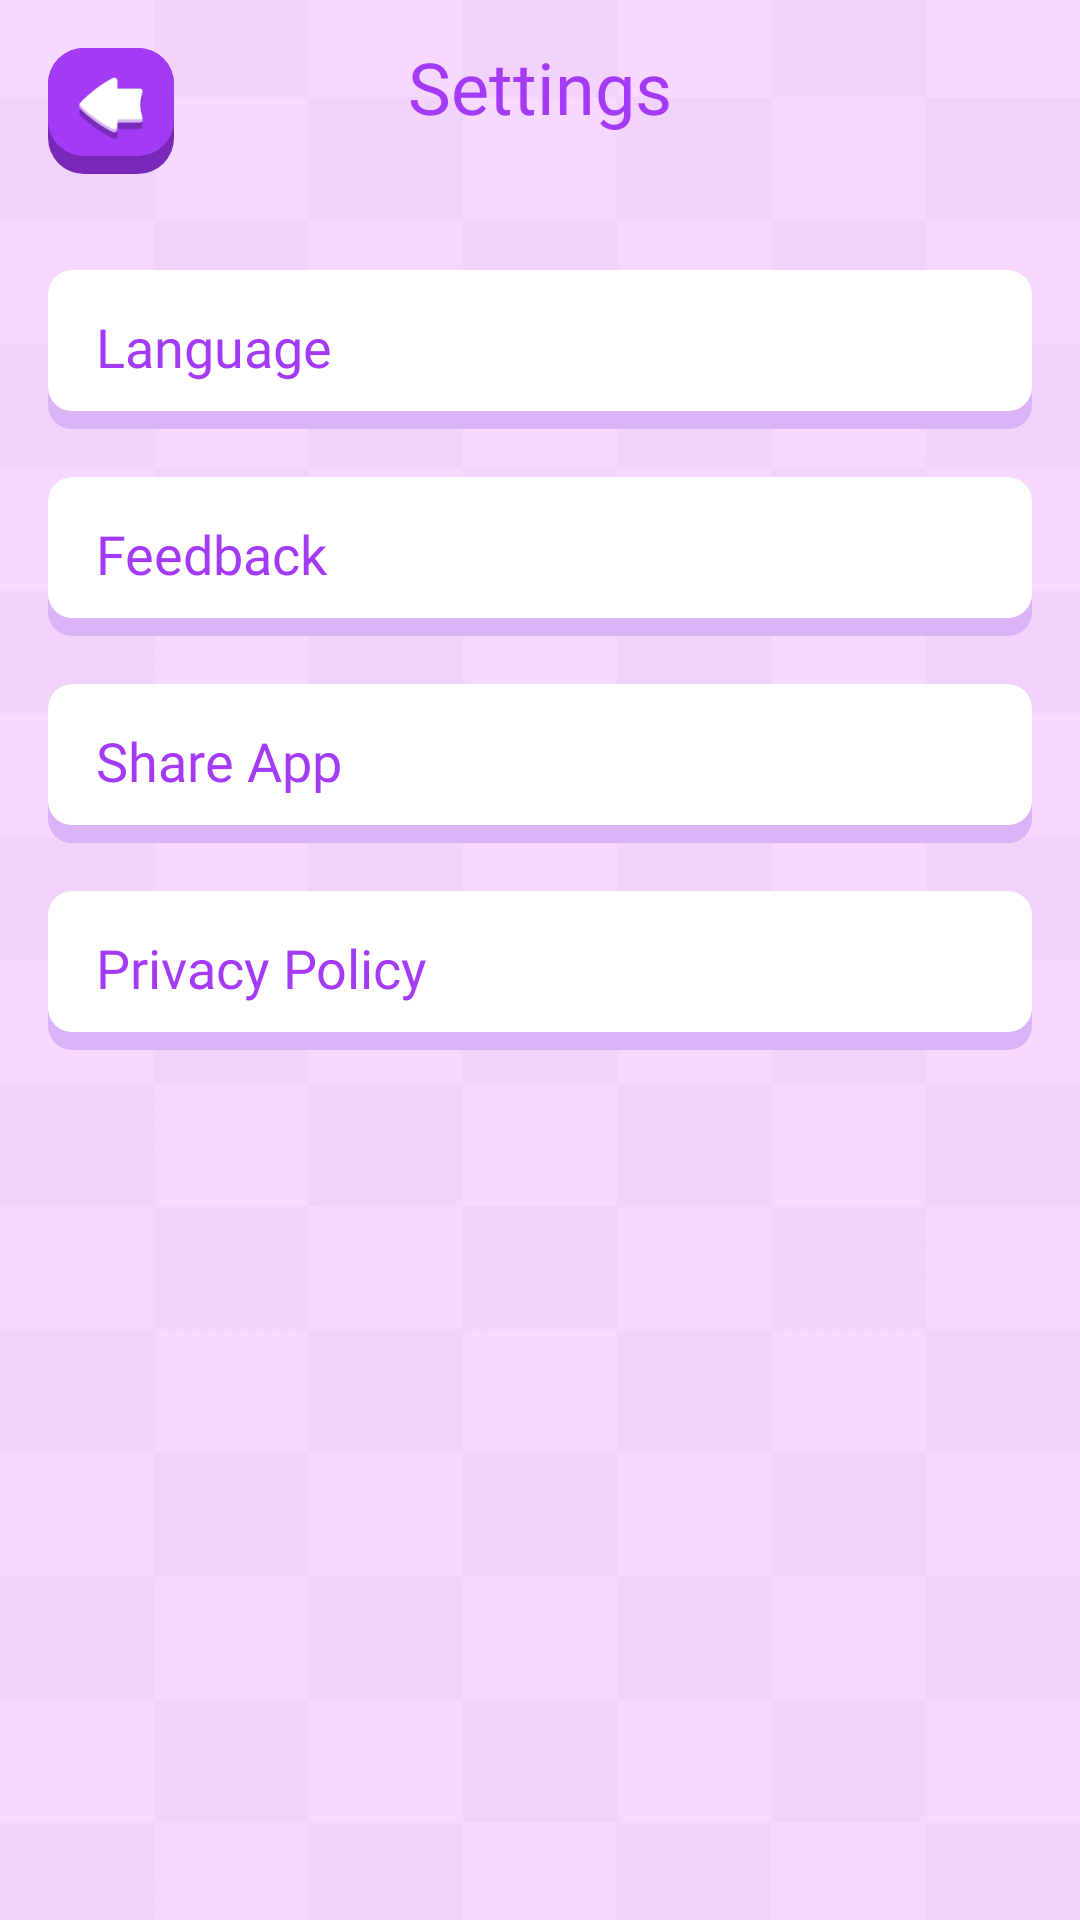

Named icons in this screenshot (1080w x 1920h) and their bounding boxes, (x1=x1, y1=y1, x2=x2, y2=y2):
back detail: (x1=48, y1=48, x2=174, y2=174)
